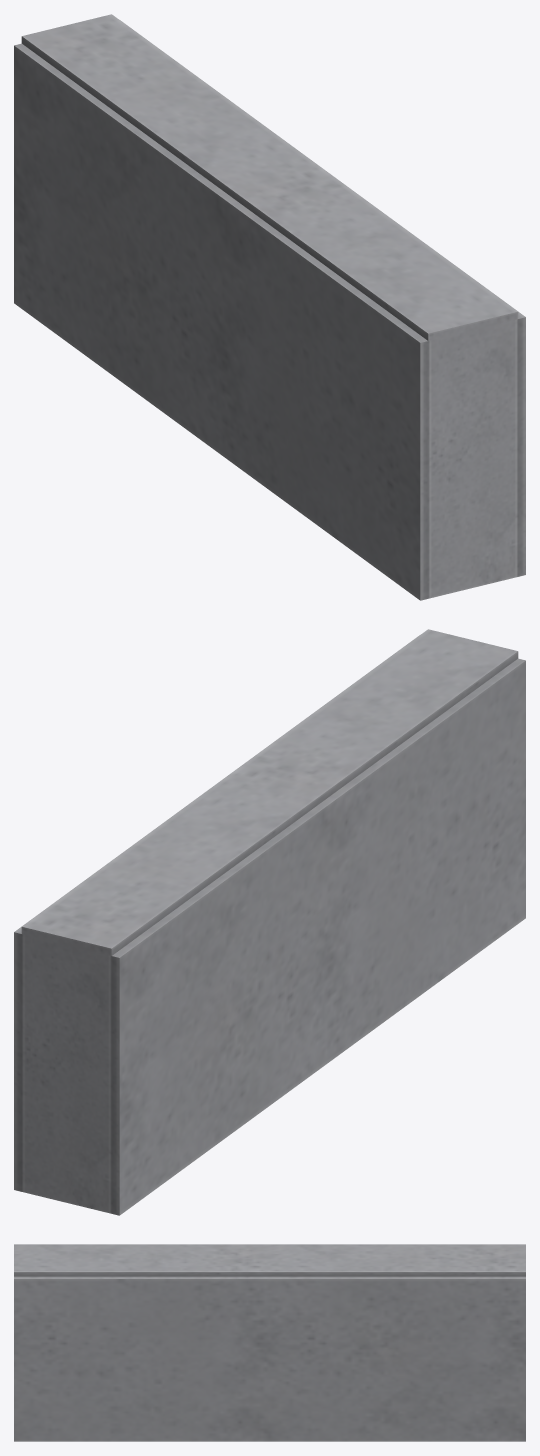
The model's file is set_curb_straight_02.fbx.
3 renders of one model, top to bottom at view 1: azimuth 30°, elevation 25°; view 2: azimuth 150°, elevation 25°; view 3: azimuth 270°, elevation 25°, orthographic. The views are drawn at different scales.
Visible parts, largest first — view 1: set_curb_straight_02; view 2: set_curb_straight_02; view 3: set_curb_straight_02.
Part boxes in pixels (bbox=[...]): set_curb_straight_02: bbox=[14, 14, 525, 600]; set_curb_straight_02: bbox=[14, 629, 525, 1215]; set_curb_straight_02: bbox=[14, 1244, 525, 1441].
Size of the model in its own units: 30 by 72 by 200.
